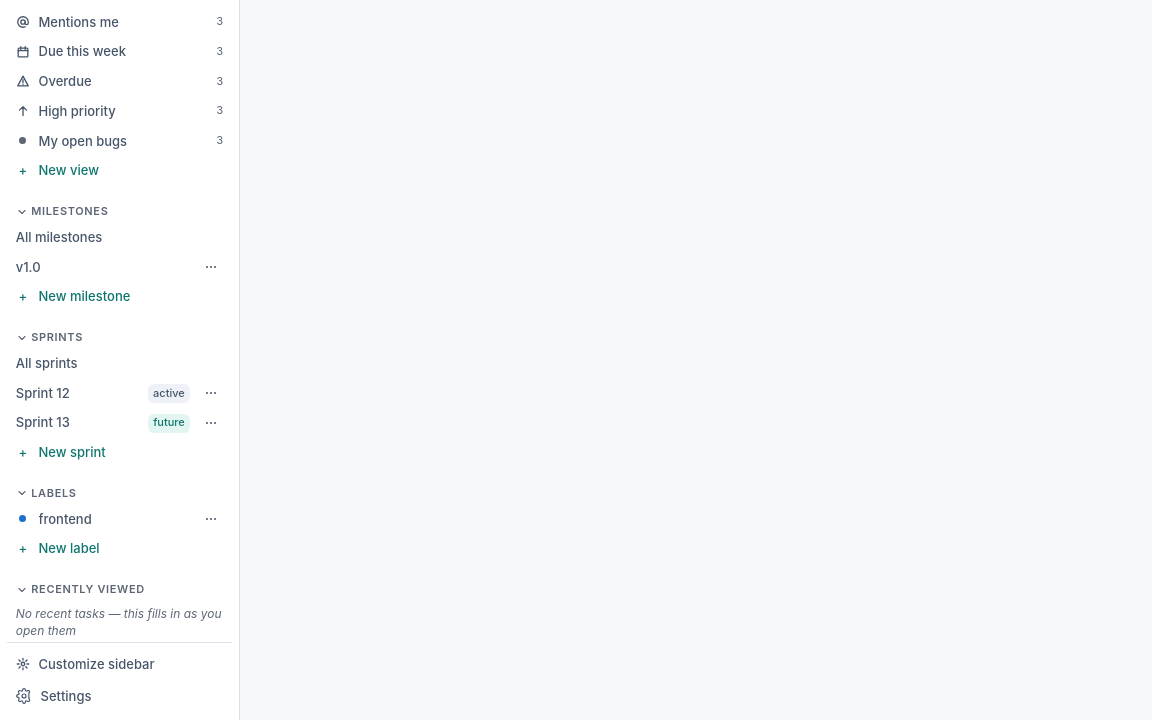
Test: Sidebar › '+ New sprint' opens the shared create dialog in place (K105)
(page scrolled)
Click the button with test id "sidebar-new-sprint": coordinates (120, 452) top-left (7, 438), bottom-right (232, 466)
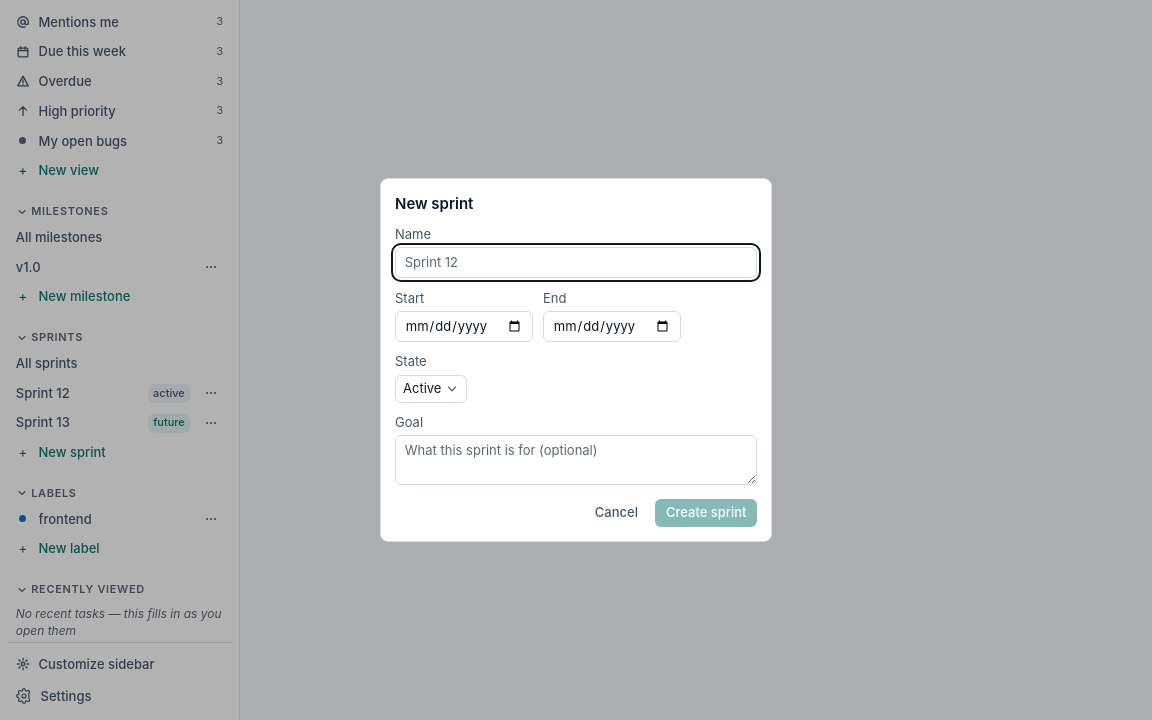
expect the field with test id "sprint-create-name" is shown: met, box top-left (395, 247), bottom-right (757, 278)
